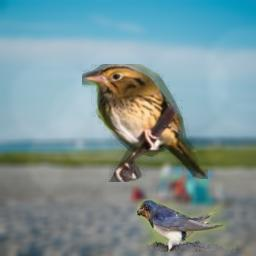Sparrow: (82, 64, 208, 182)
Swallow: (137, 199, 236, 252)
